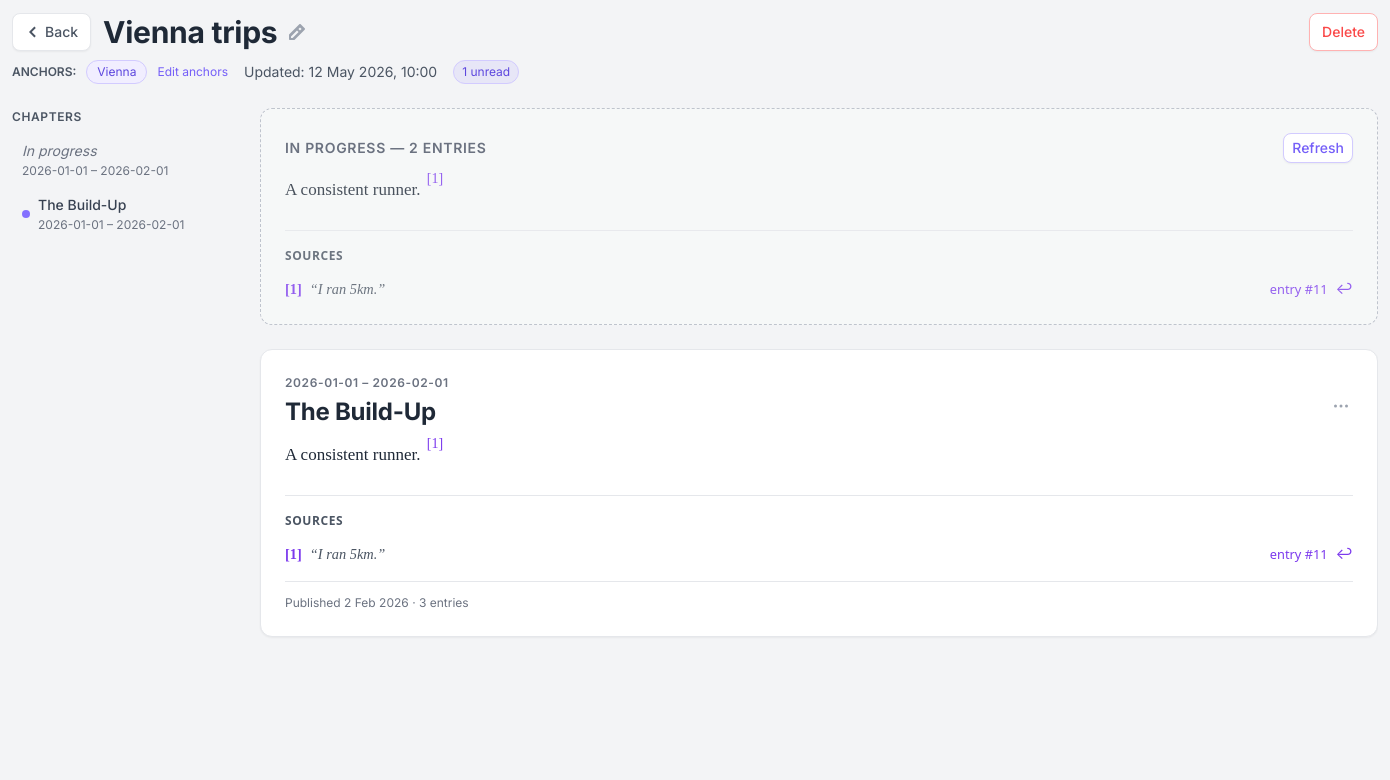
StorylineDetailView — header flows › inline title edit saves through the store
Click the button with test id "edit-name-button" at coordinates (297, 32), box top-left (289, 24), bottom-right (305, 40)
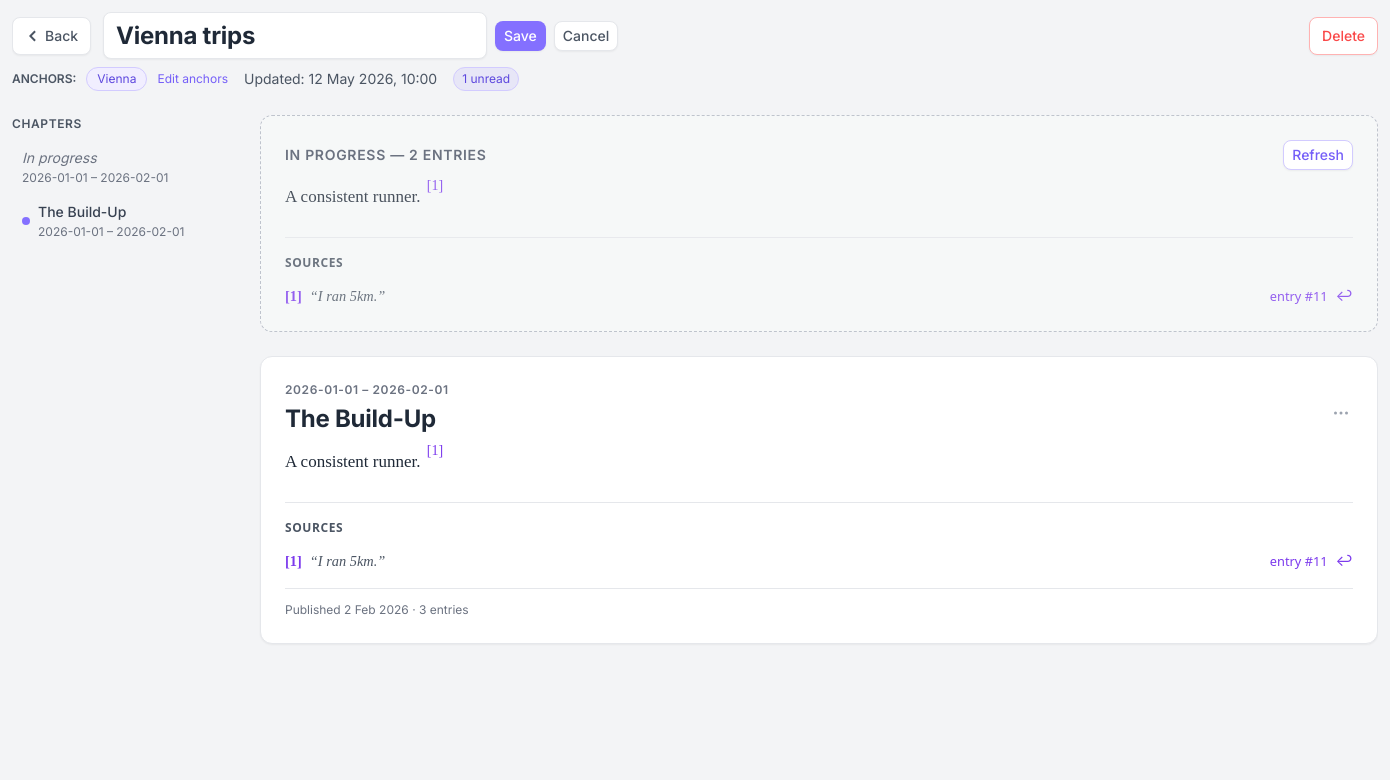
Replace the text in the field with test id "storyline-name-input" with "Trips to Vienna" at coordinates (295, 36), box top-left (103, 12), bottom-right (487, 59)
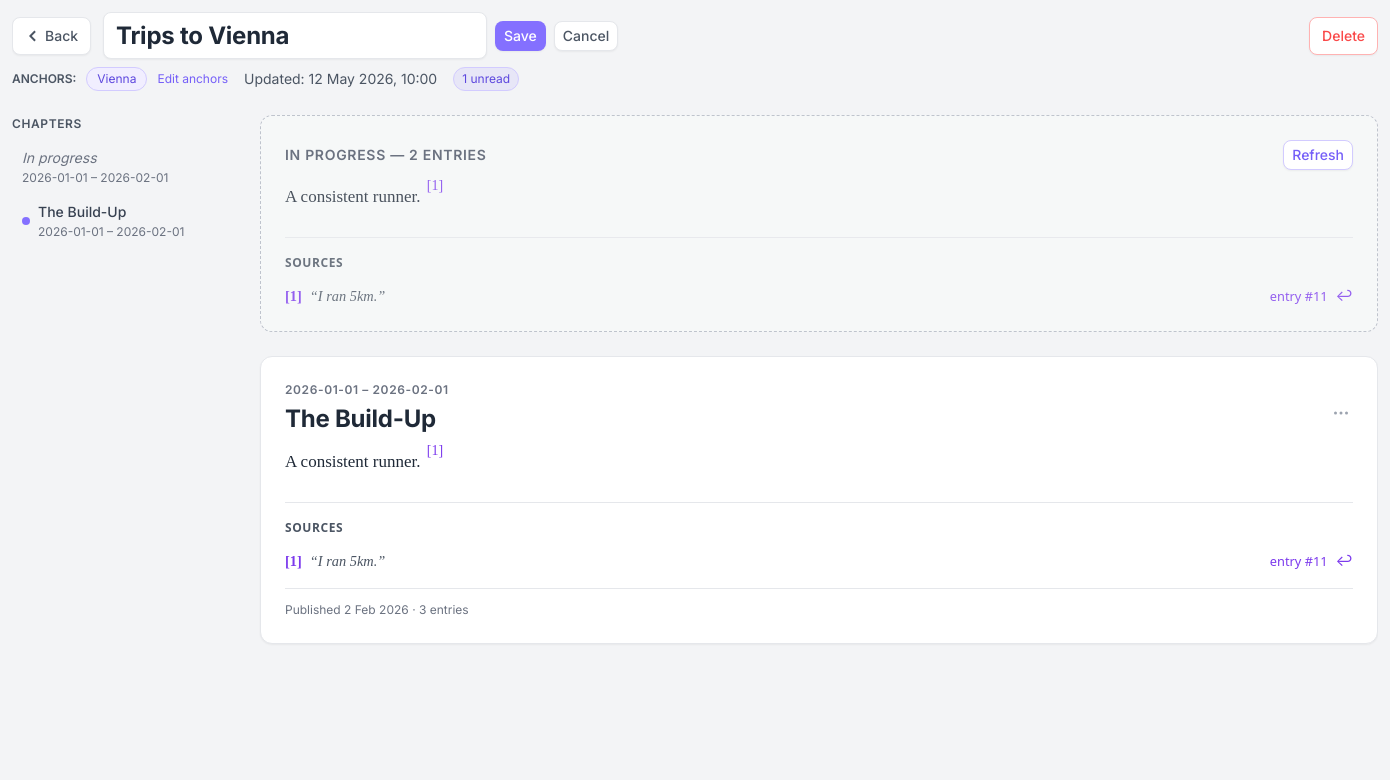
Submit the form with test id "storyline-name-form", box top-left (103, 12), bottom-right (618, 59)
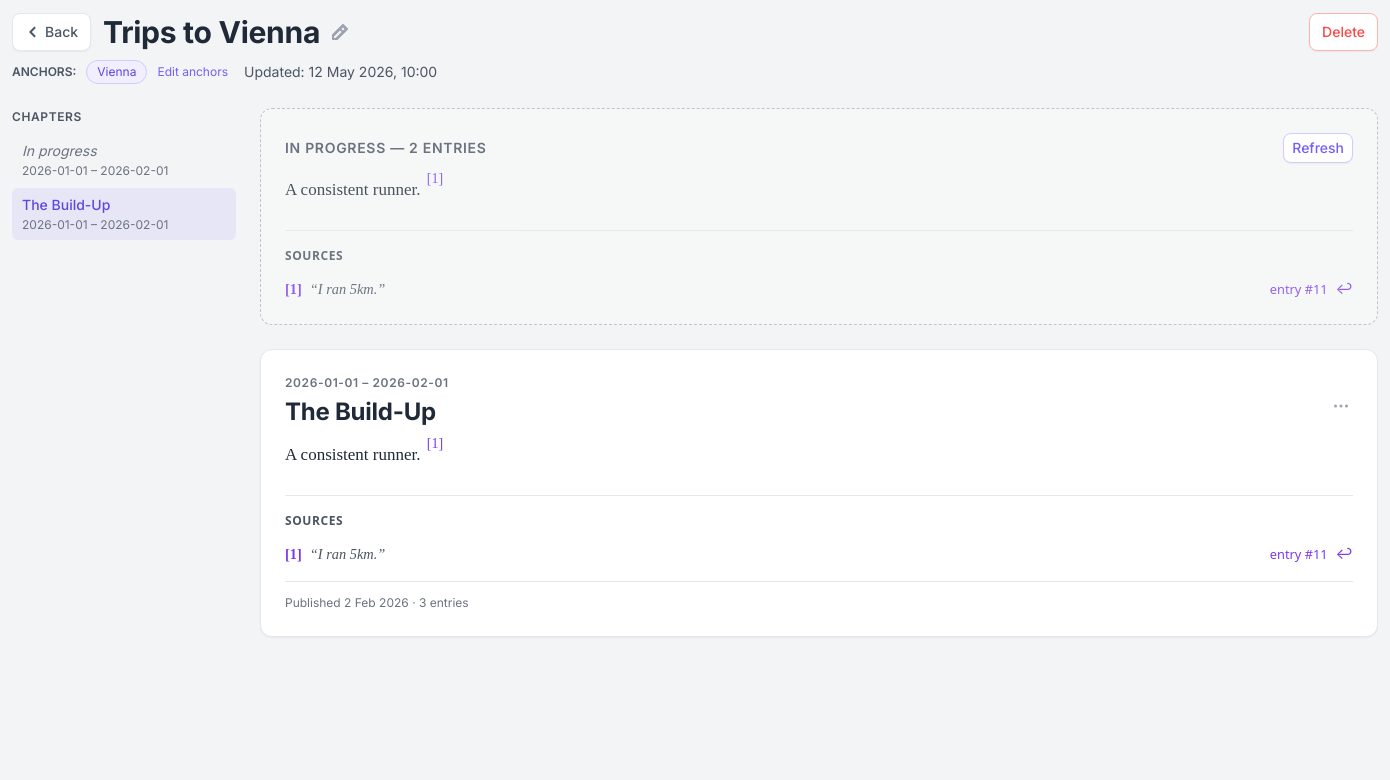
Now the heading with test id "storyline-name-heading" reads "Trips to Vienna", box top-left (103, 14), bottom-right (320, 50)
